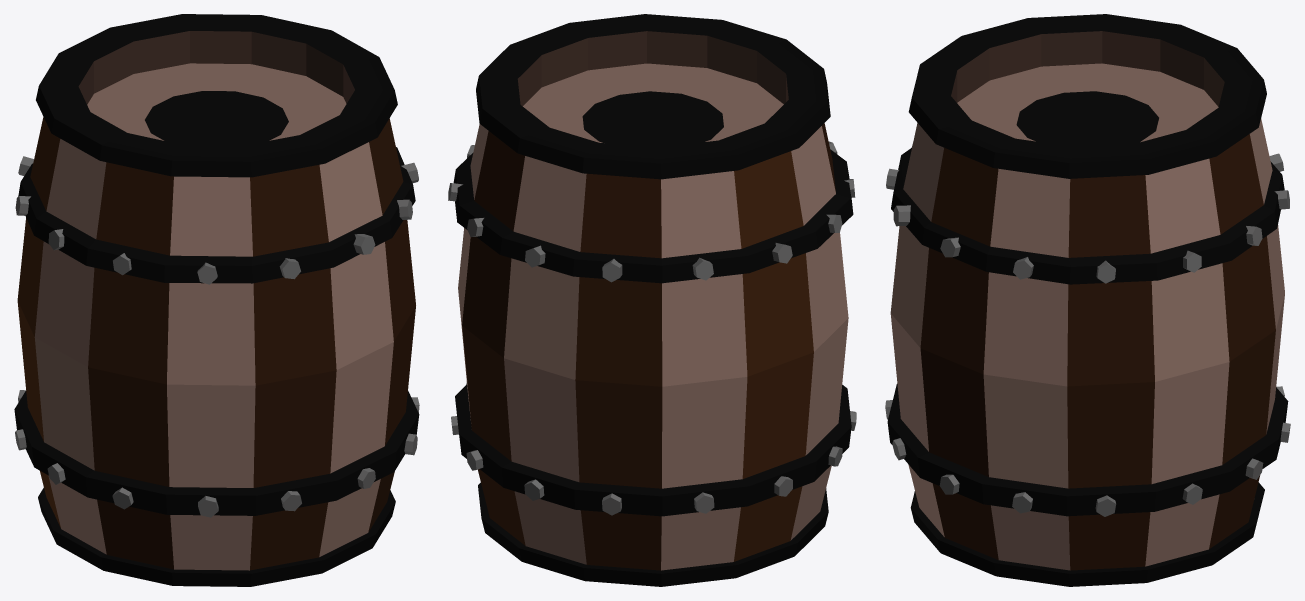
File: fici.fbx
The picture shows the model from 3 angles, left to right: view 1: azimuth 30°, elevation 25°; view 2: azimuth 150°, elevation 25°; view 3: azimuth 270°, elevation 25°; orthographic projection.
Visible parts, largest first — view 1: pCylinder72; view 2: pCylinder72; view 3: pCylinder72.
Part boxes in pixels (x1,y1,x2,y2): pCylinder72: (14, 14, 419, 586); pCylinder72: (448, 14, 856, 586); pCylinder72: (885, 14, 1290, 586).
Bounding box in the file's own units: 4.16 × 4.8 × 4.15.
